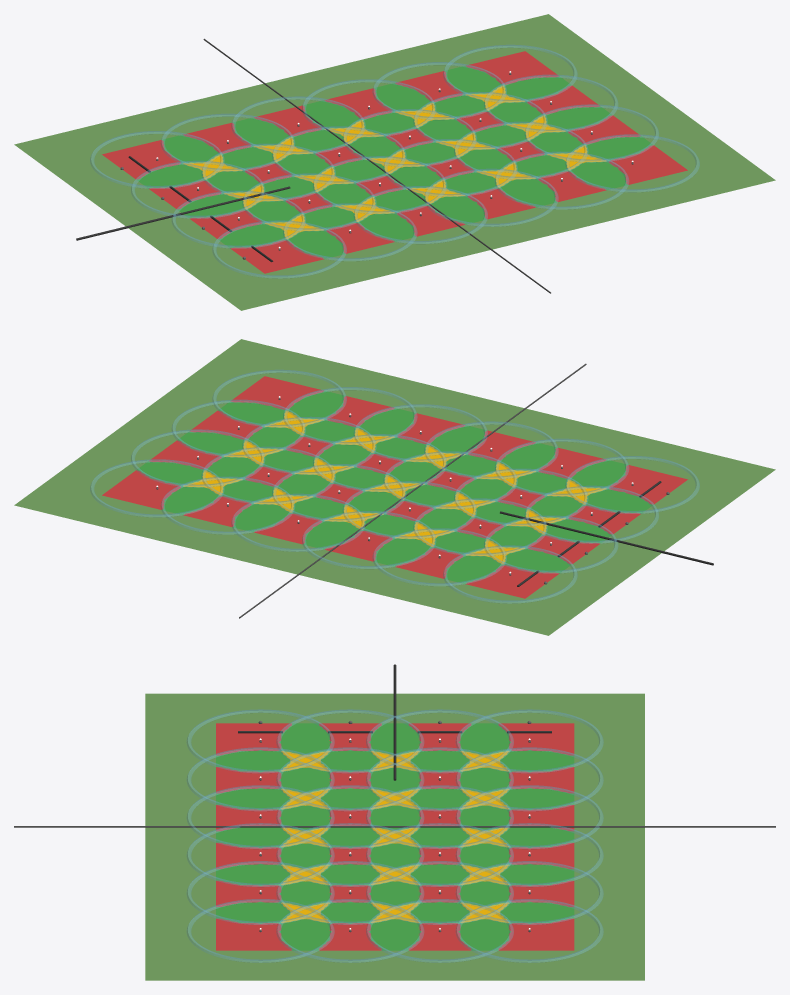
The model's file is sprinklesim_scene.glb.
3 views of the same model, one above another, from view 1: azimuth 30°, elevation 25°; view 2: azimuth 150°, elevation 25°; view 3: azimuth 270°, elevation 25° (orthographic). The views are drawn at different scales.
Parts seen in each view (by area): view 1: Field, Apron, SprayRing_000, SprayRing_016, SprayRing_020, SprayRing_021, SprayRing_011, SprayRing_007, SprayRing_022, SprayRing_002, SprayRing_023, SprayRing_003 (+15 smaller); view 2: Field, Apron, SprayRing_003, SprayRing_019, SprayRing_023, SprayRing_022, SprayRing_008, SprayRing_004, SprayRing_021, SprayRing_020, SprayRing_000, SprayRing_001 (+15 smaller); view 3: Field, Apron, SprayRing_016, SprayRing_019, SprayRing_020, SprayRing_000, SprayRing_023, SprayRing_008, SprayRing_011, SprayRing_022, SprayRing_003, SprayRing_004 (+15 smaller).
Boxes of the visible parts, x1,y1,x2,y2 form: Field: (102,51,687,273); Apron: (14,14,775,310); SprayRing_000: (212,220,346,278); SprayRing_016: (494,151,628,209); SprayRing_020: (565,134,699,192); SprayRing_021: (525,104,659,162); SprayRing_011: (231,96,365,154); SprayRing_007: (161,113,295,171); SprayRing_022: (484,74,618,132); SprayRing_002: (131,160,265,218); SprayRing_023: (443,44,577,102); SprayRing_003: (90,131,224,188); Field: (102,376,687,598); Apron: (14,339,775,635); SprayRing_003: (443,545,577,603); SprayRing_019: (161,476,295,534); SprayRing_023: (90,459,224,517); SprayRing_022: (130,429,264,487); SprayRing_008: (424,421,558,479); SprayRing_004: (494,438,628,496); SprayRing_021: (171,399,305,457); SprayRing_020: (212,369,346,427); SprayRing_000: (565,456,699,513); SprayRing_001: (524,485,658,543); Field: (216,723,574,950); Apron: (145,693,644,980); SprayRing_016: (186,861,334,924); SprayRing_019: (455,861,603,924); SprayRing_020: (186,899,334,962); SprayRing_000: (186,709,334,773); SprayRing_023: (456,899,603,962); SprayRing_008: (186,785,334,848); SprayRing_011: (455,785,603,848); SprayRing_022: (366,899,513,962); SprayRing_003: (455,709,603,773); SprayRing_004: (186,747,334,810).
Size of the model in its own units: 126 by 1 by 130.
Materials: 8 (1 with a texture image).
